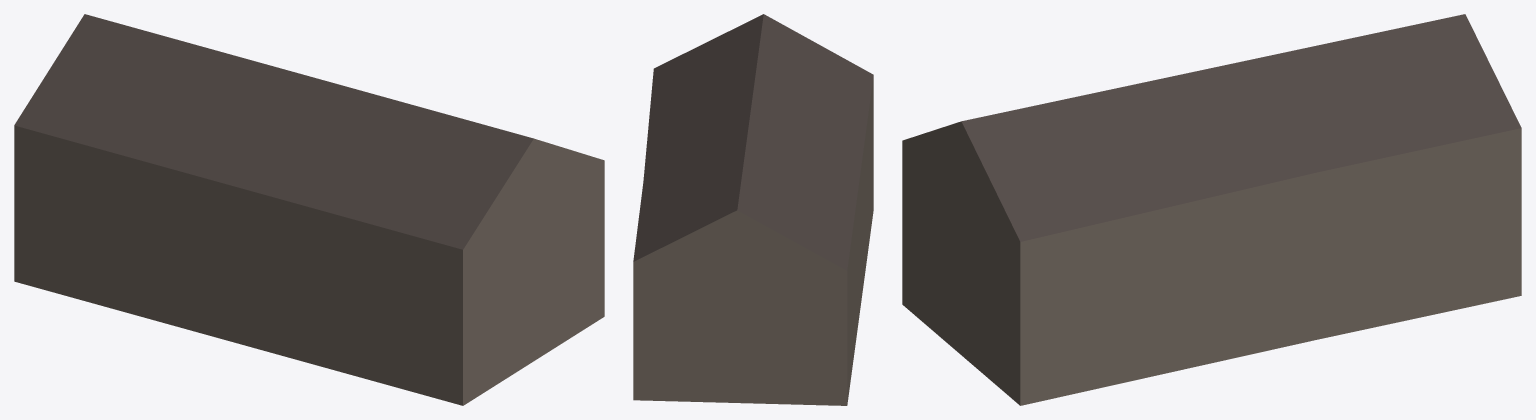
The picture shows the model from 3 angles, left to right: view 1: azimuth 30°, elevation 25°; view 2: azimuth 150°, elevation 25°; view 3: azimuth 270°, elevation 25°; orthographic projection. The views are drawn at different scales.
Visible parts, largest first — view 1: HP-w1197053244; view 2: HP-w1197053244; view 3: HP-w1197053244.
Boxes of the visible parts, x1,y1,x2,y2 form: HP-w1197053244: (14, 14, 604, 405); HP-w1197053244: (633, 14, 873, 405); HP-w1197053244: (902, 14, 1521, 405).
Size of the model in its own units: 16.37 by 8.56 by 20.53.
